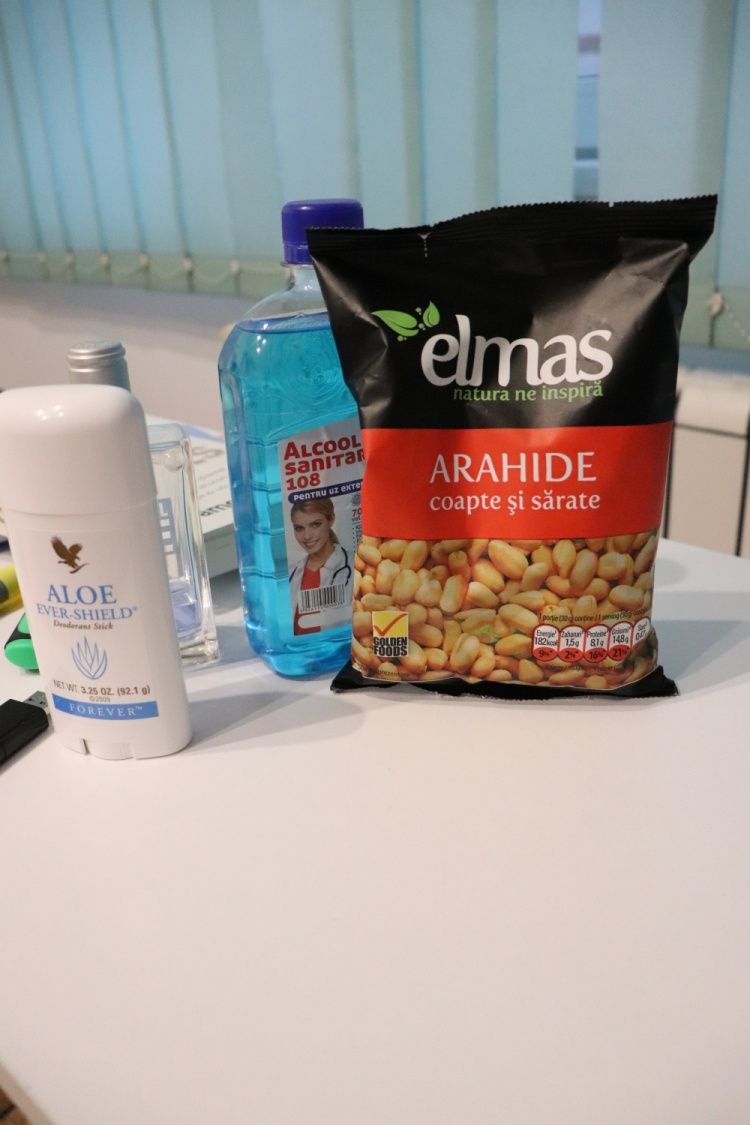peanuts: (295, 193, 722, 736)
